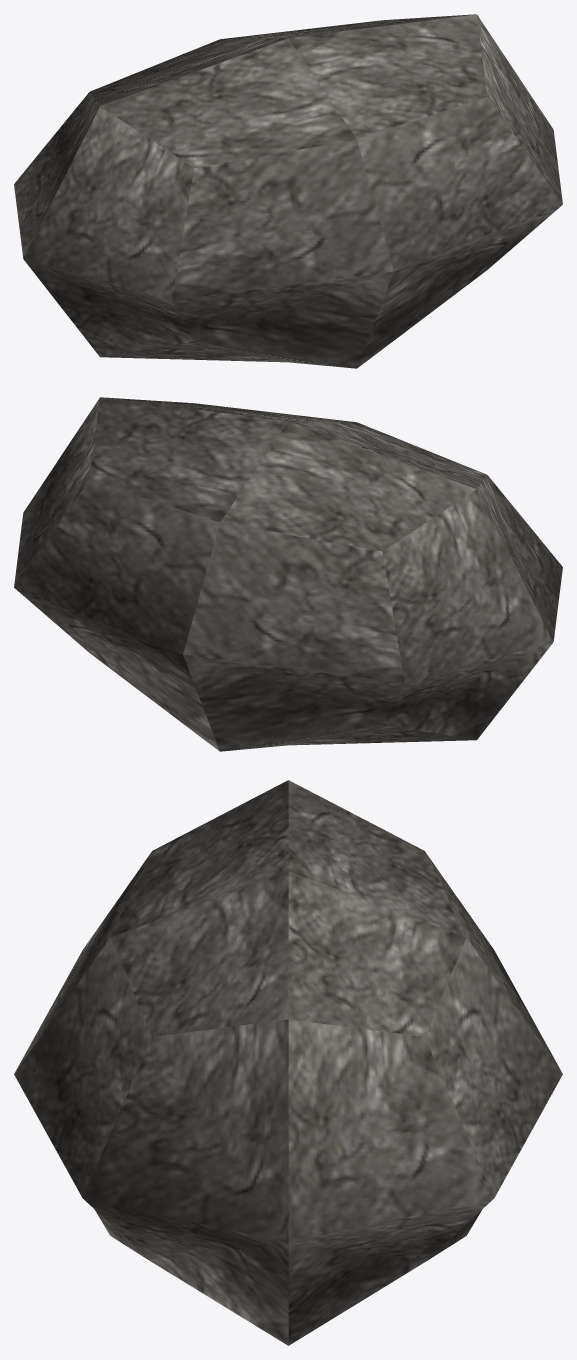
The model's file is Trebuchet_projectile.fbx.
3 renders of one model, top to bottom at view 1: azimuth 30°, elevation 25°; view 2: azimuth 150°, elevation 25°; view 3: azimuth 270°, elevation 25°, orthographic. The views are drawn at different scales.
Visible parts, largest first — view 1: polySurface724; view 2: polySurface724; view 3: polySurface724.
Part boxes in pixels (bbox=[...]): polySurface724: bbox=[14, 14, 562, 368]; polySurface724: bbox=[14, 397, 562, 751]; polySurface724: bbox=[14, 780, 562, 1345].
Size of the model in its own units: 33.25 by 19.42 by 22.91.
Materials: 1 (1 with a texture image).
